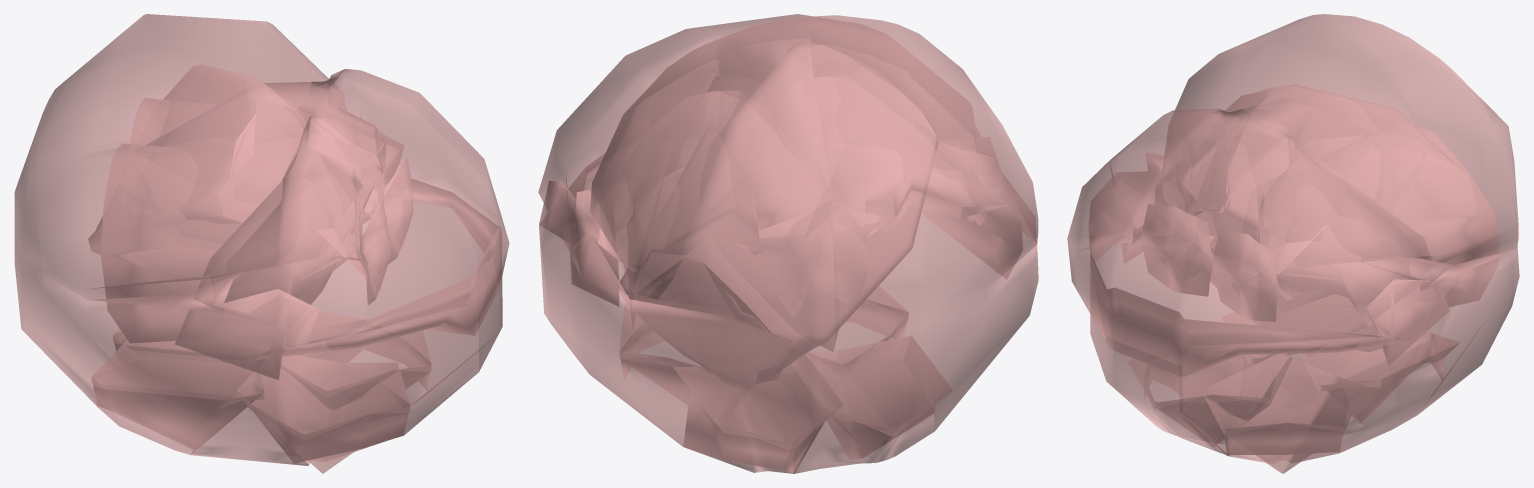
The model's file is recliner_cg.fbx.
3 renders of one model, left to right at view 1: azimuth 30°, elevation 25°; view 2: azimuth 150°, elevation 25°; view 3: azimuth 270°, elevation 25°, orthographic. The views are drawn at different scales.
Parts seen in each view (by area): view 1: cushionedChair_cg; view 2: cushionedChair_cg; view 3: cushionedChair_cg.
Boxes of the visible parts, left/top/right/bottom form: cushionedChair_cg: left=14, top=14, right=509, bottom=473; cushionedChair_cg: left=538, top=14, right=1038, bottom=473; cushionedChair_cg: left=1067, top=14, right=1519, bottom=473.
Bounding box in the file's own units: 3.2 × 2.91 × 3.17.
